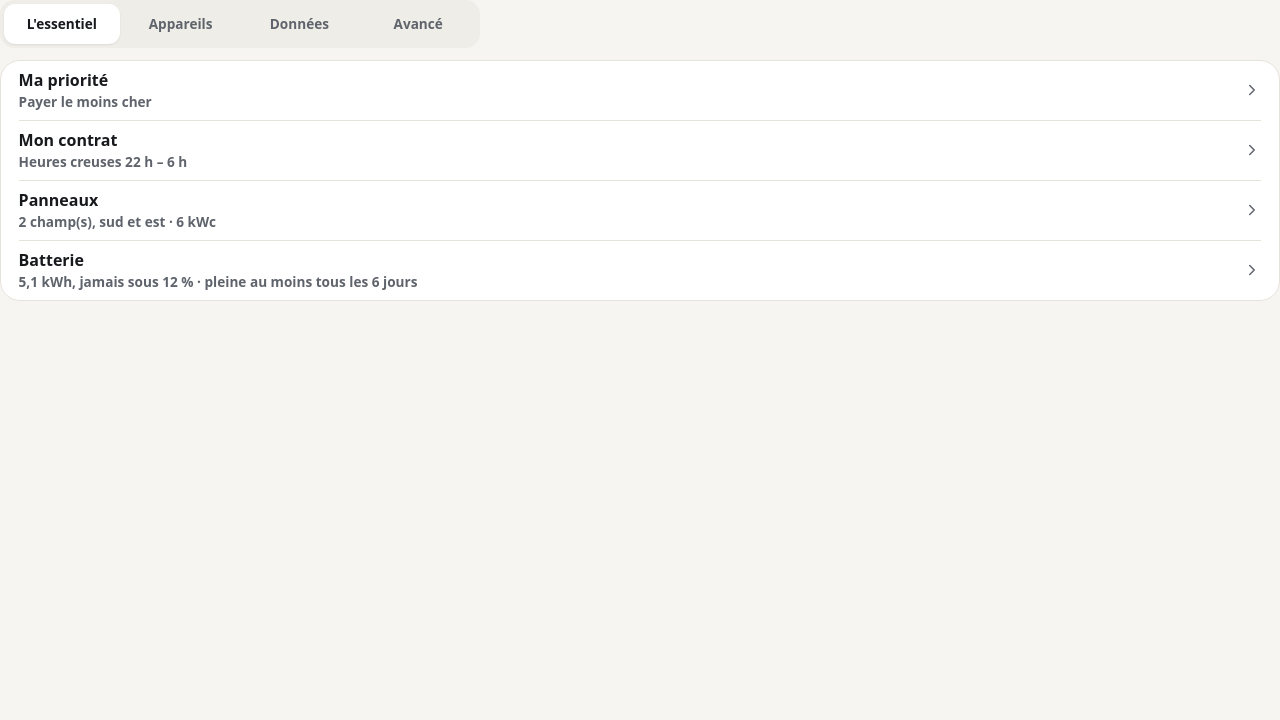
Test: Ma maison en onglets › range les appareils placés, replie ceux suivis seulement, et garde l'onglet
The image size is (1280, 720).
What coordinates should you click on to do the following:
click the tab "Appareils"
I would click on:
 (181, 24)
Its box is [123,4,238,44].
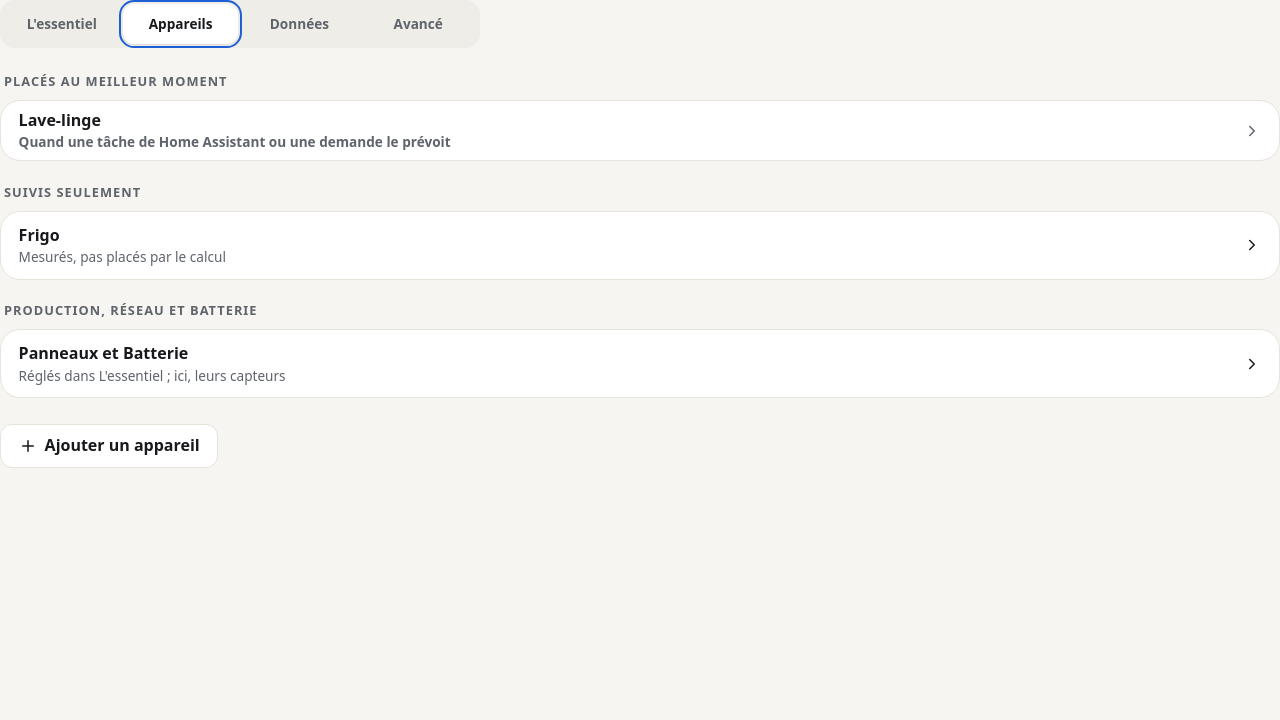
Now the button that starts with "Lave-linge" is shown, box [19,101,1261,160]
Now the text "Frigo" shows "Mesurés, pas placés", box [19,247,226,266]
What coordinates should you click on to do the following:
click the text "Frigo"
I would click on:
 (39, 235)
Its box is [19,224,60,246].
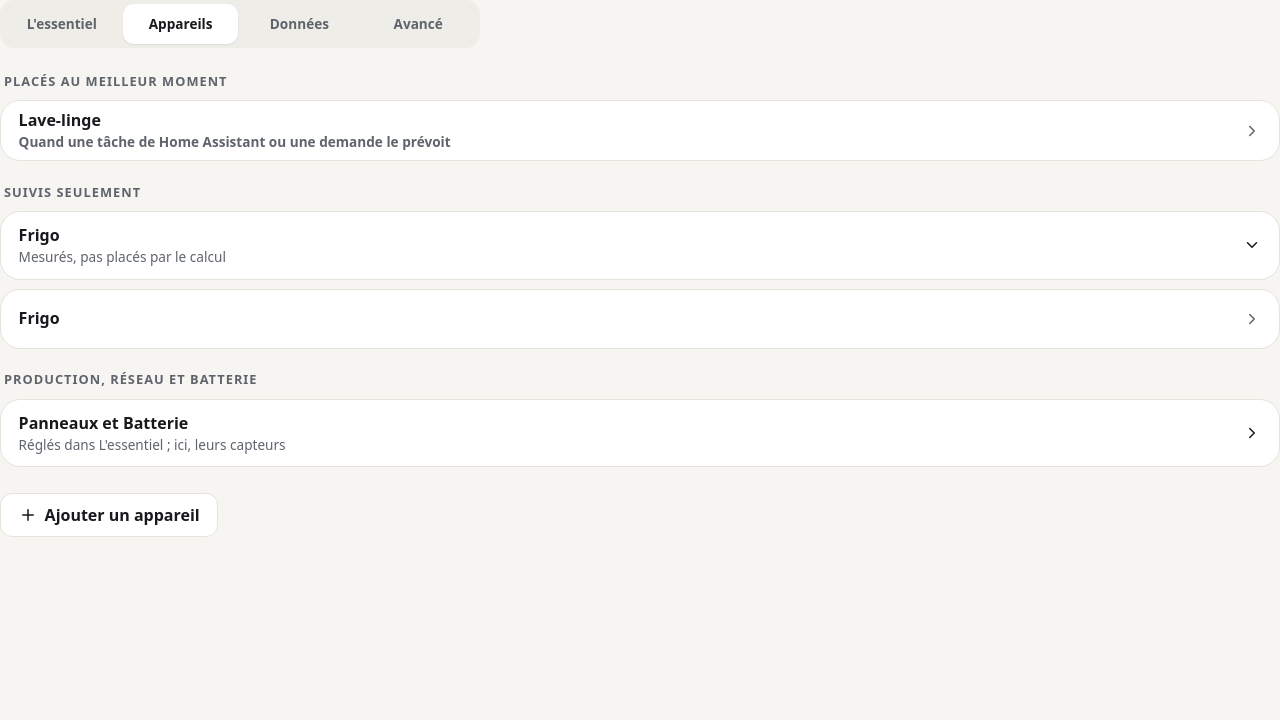
What coordinates should you click on to do the following:
click the button "Frigo"
I would click on:
 (39, 318)
Its box is [19,290,1261,348].
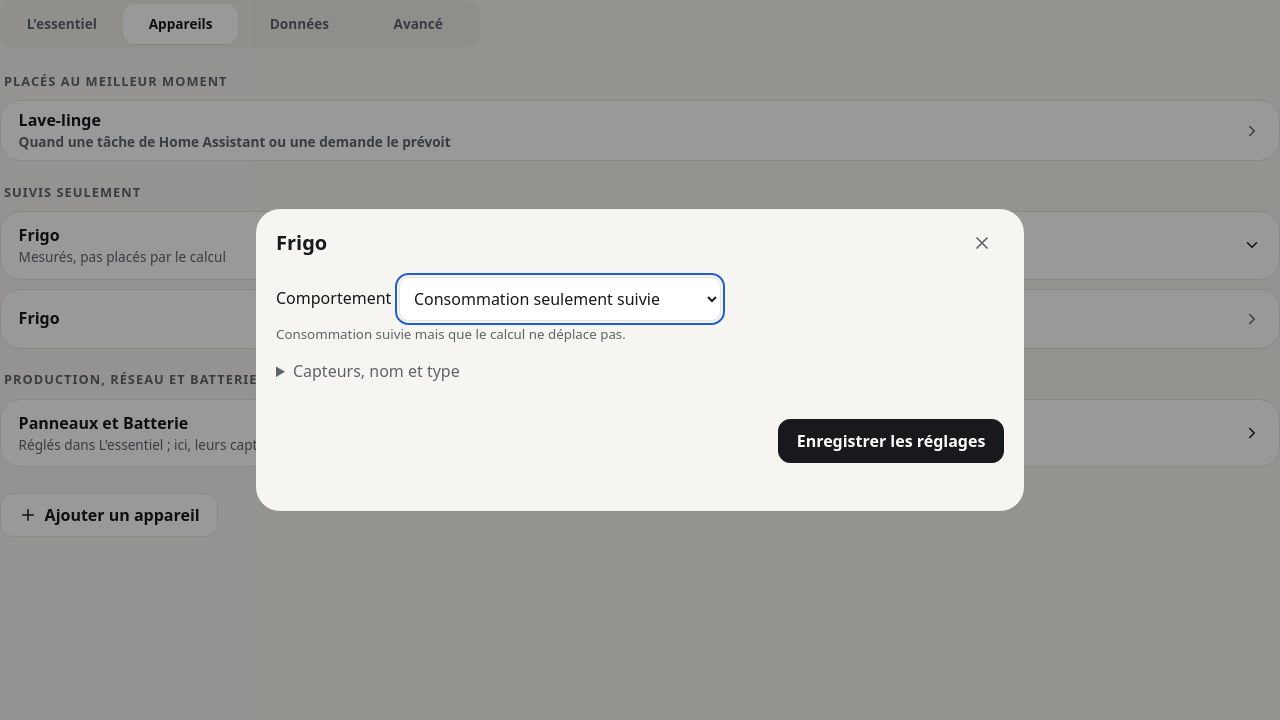
Now the dialog "Frigo" is shown, box [256,209,1024,512]
What coordinates should you click on to do the following:
click the button named "Fermer"
I would click on:
 (982, 243)
Its box is [960,221,1004,265].
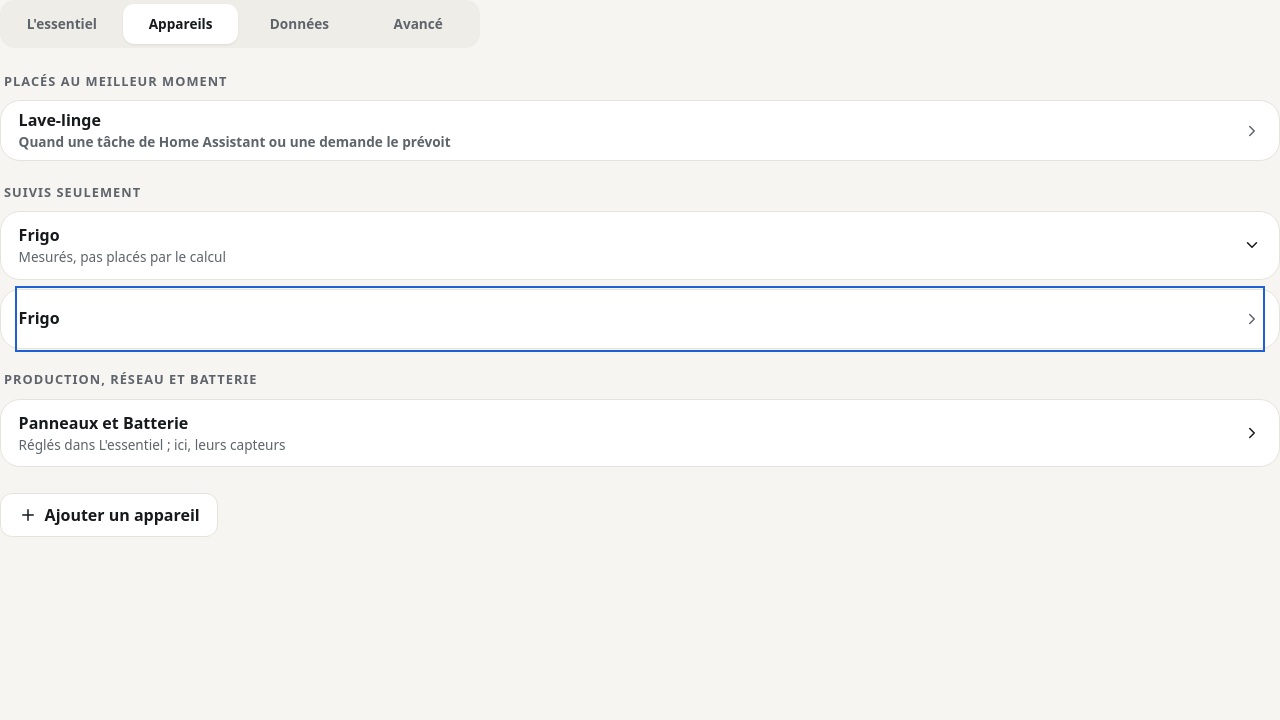
What coordinates should you click on to do the following:
click the button "Ajouter un appareil"
I would click on:
 (109, 515)
Its box is [0,493,218,538].
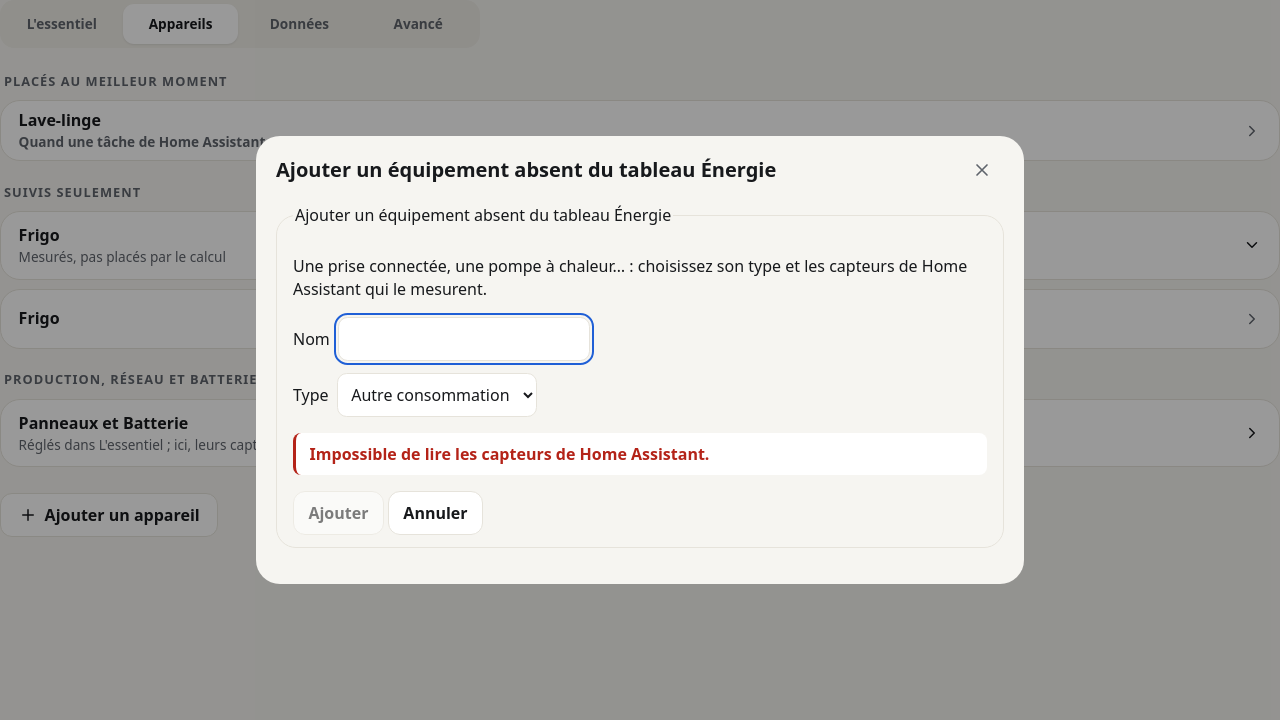
Now the dialog "Ajouter un équipement absent du tableau Énergie" is shown, box [256,136,1024,584]
